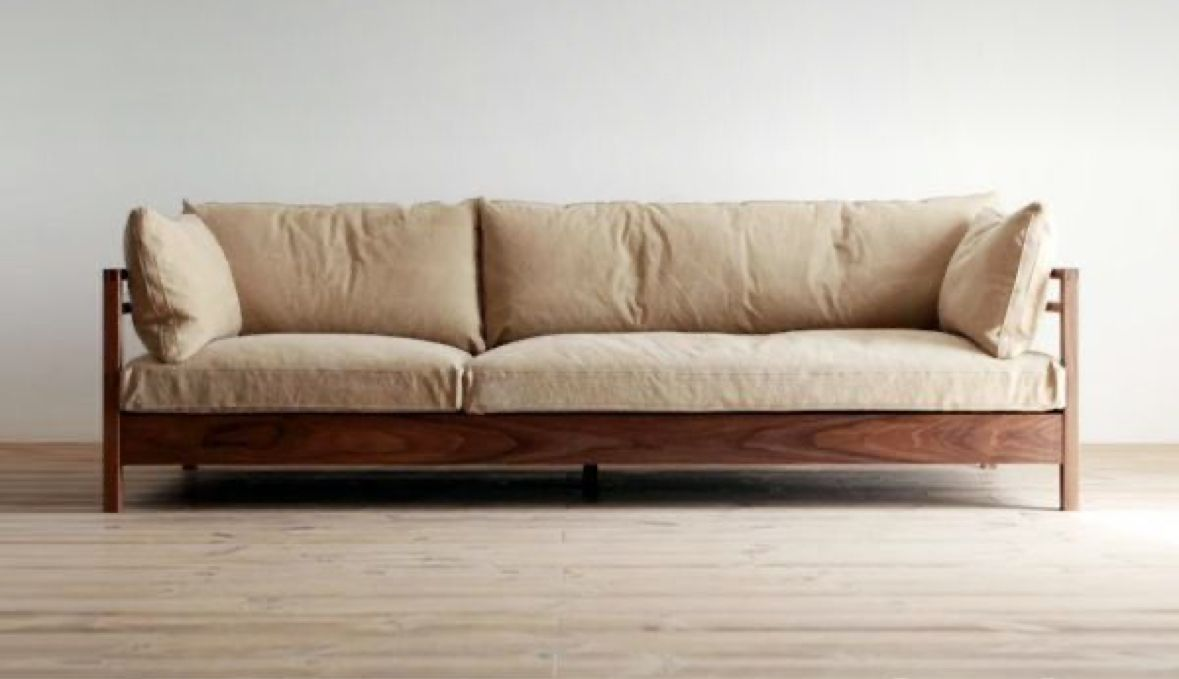3seatersofa: (102, 193, 1078, 511)
backrest: (194, 196, 989, 348)
base: (120, 413, 1071, 467)
leg: (1050, 268, 1080, 510), (102, 270, 131, 512), (582, 466, 598, 500), (979, 463, 996, 469), (181, 464, 197, 470)
pillow: (939, 205, 1050, 357), (132, 211, 242, 361)
seat: (122, 330, 1063, 413)
